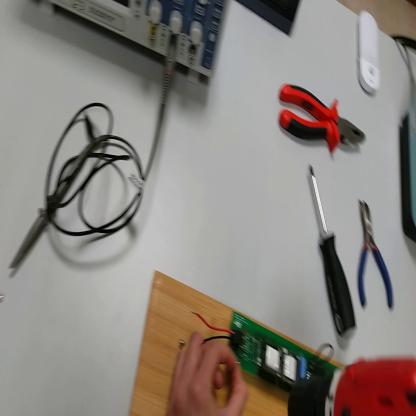electric screwdriver: (288, 358, 416, 415)
hand: (170, 338, 247, 415)
high voltage board: (197, 313, 338, 395)
oscilloscope: (31, 3, 230, 88)
oscilloscope probe tip: (11, 133, 110, 270)
pliers: (278, 81, 369, 155), (356, 198, 396, 311)
screwdriver-: (310, 164, 358, 341)
welder station: (401, 111, 416, 242)
working area: (134, 272, 341, 416)
